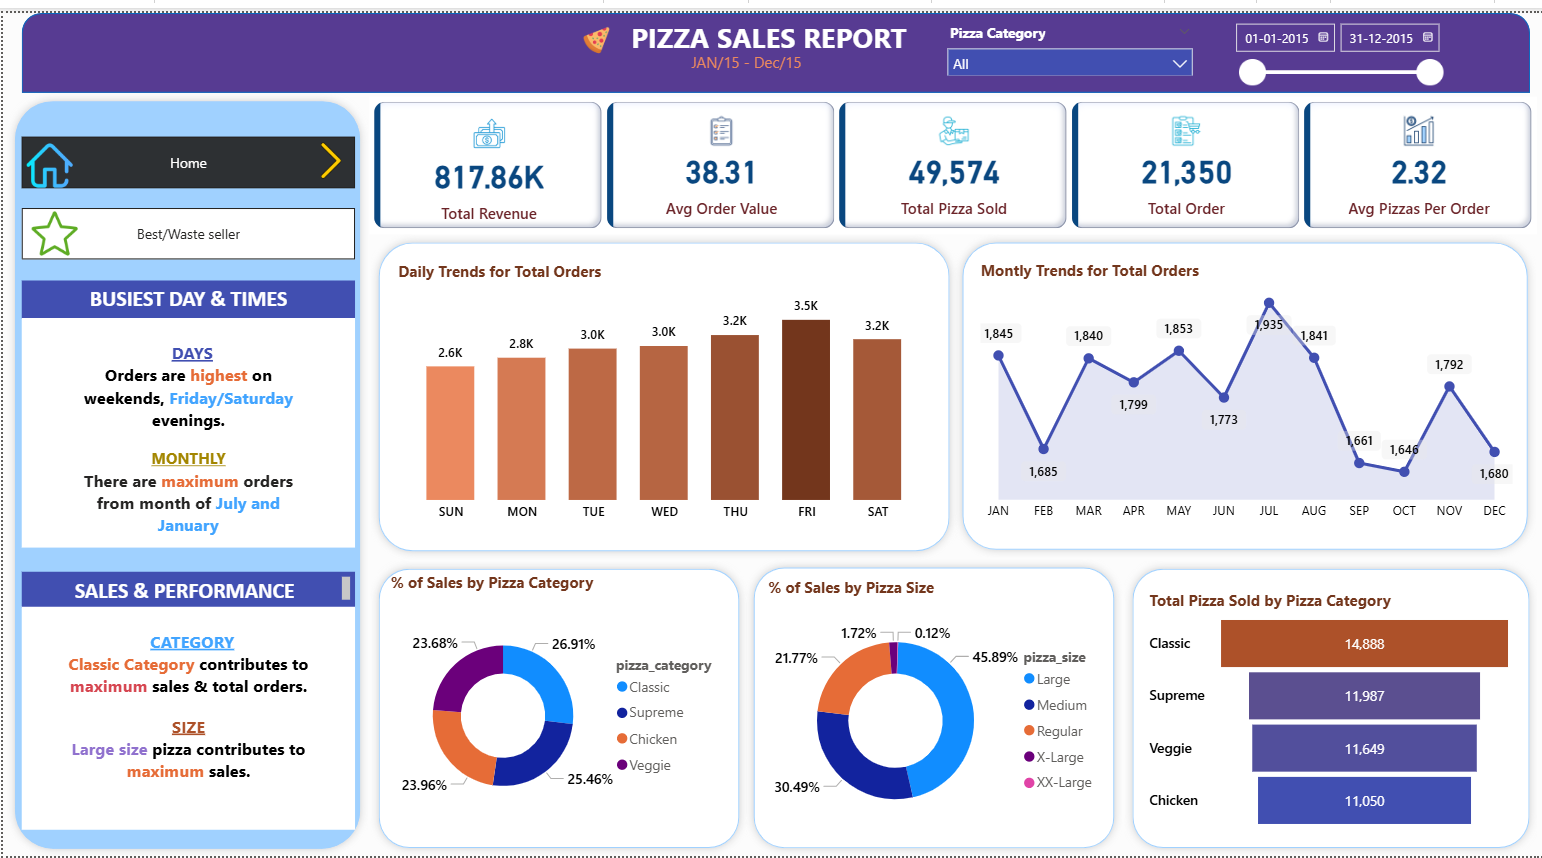

This screenshot's page, from the dashboard's own definition file:
{"tool":"powerbi","page":{"name":"Home","canvas":[1500,820],"ordinal":0},"visuals":[{"type":"cardVisual","fields":{"Data":["pizza_sales.Total Revenue","pizza_sales.Avg Order Value","pizza_sales.Total Pizza Sold","pizza_sales.Total Order","pizza_sales.Avg Pizzas Per Order"]},"box":[355.7,81.8,1135.1,133.5],"z":0},{"type":"shape","box":[17.7,0,1466.2,77.7],"z":1000},{"type":"textbox","box":[600,0,288.8,45],"z":2000},{"type":"textbox","box":[600,32.5,245,32.5],"z":3000},{"type":"image","box":[553.8,8.8,46.2,36.2],"z":4000},{"type":"shape","box":[357,215.3,571,316.1],"z":5000},{"type":"columnChart","title":"Daily Trends for Total Orders","fields":{"Category":["pizza_sales.Order Day"],"Y":["pizza_sales.Total Order"]},"box":[378.8,241.2,528.7,263],"z":6000},{"type":"shape","box":[925.2,215.3,565.5,314.8],"z":7000},{"type":"areaChart","title":"Montly Trends for Total Orders","fields":{"Category":["pizza_sales.Order Month"],"Y":["pizza_sales.Total Order"]},"box":[945.7,239.8,527.3,263],"z":8000},{"type":"shape","box":[722.2,531.4,366.6,288.9],"z":9000},{"type":"shape","box":[357,532.8,366.6,287.5],"z":10000},{"type":"shape","box":[1090.1,532.8,402,287.5],"z":11000},{"type":"donutChart","title":"% of Sales by Pizza Category","fields":{"Category":["pizza_sales.pizza_category"],"Y":["pizza_sales.Total Revenue"]},"box":[372,543.7,337.9,260.3],"z":12000},{"type":"donutChart","title":"% of Sales by Pizza Size","fields":{"Y":["pizza_sales.Total Revenue"],"Category":["pizza_sales.pizza_size"]},"box":[738.6,547.8,337.9,260.3],"z":13000},{"type":"shape","box":[4.1,77.7,351.6,742.6],"z":14000},{"type":"funnel","title":"Total Pizza Sold by Pizza Category","fields":{"Y":["pizza_sales.Total Pizza Sold"],"Category":["pizza_sales.pizza_category"]},"box":[1109.2,560,363.8,238.5],"z":15000},{"type":"textbox","box":[17.7,260.3,324.3,36.8],"z":16000},{"type":"textbox","box":[17.7,297.1,324.3,223.5],"z":17000},{"type":"textbox","box":[17.7,543.7,324.3,34.1],"z":18000},{"type":"textbox","box":[17.7,577.8,324.3,216.7],"z":19000},{"type":"slicer","fields":{"Values":["pizza_sales.pizza_category"]},"box":[907.5,5.5,258.9,55.9],"z":20000},{"type":"slicer","fields":{"Values":["pizza_sales.order_date"]},"box":[1185.5,0,222.1,81.8],"z":21000},{"type":"pageNavigator","box":[17.7,119.9,324.3,50.4],"z":22000},{"type":"pageNavigator","box":[17.7,189.4,324.3,50.4],"z":23000},{"type":"image","box":[297.1,119.9,45,46.3],"z":24000},{"type":"image","box":[17.7,119.9,54.5,55.9],"z":25000},{"type":"image","box":[17.7,186.7,64,54.5],"z":26000}]}

Visuals, with their boxes in screenshot pixels (x1, y1, x2, y2), scaled from the page's 1500x820 canvas onto the 1542x858 screenshot:
cardVisual - pizza_sales.Total Revenue x pizza_sales.Avg Order Value: l=366, t=86, r=1533, b=225
shape: l=18, t=0, r=1525, b=81
textbox: l=617, t=0, r=914, b=47
textbox: l=617, t=34, r=869, b=68
image: l=569, t=9, r=617, b=47
shape: l=367, t=225, r=954, b=556
"Daily Trends for Total Orders" columnChart: l=389, t=252, r=933, b=528
shape: l=951, t=225, r=1532, b=555
"Montly Trends for Total Orders" areaChart: l=972, t=251, r=1514, b=526
shape: l=742, t=556, r=1119, b=857
shape: l=367, t=557, r=744, b=857
shape: l=1121, t=557, r=1534, b=857
"% of Sales by Pizza Category" donutChart: l=382, t=569, r=730, b=841
"% of Sales by Pizza Size" donutChart: l=759, t=573, r=1107, b=846
shape: l=4, t=81, r=366, b=857
"Total Pizza Sold by Pizza Category" funnel: l=1140, t=586, r=1514, b=836
textbox: l=18, t=272, r=352, b=311
textbox: l=18, t=311, r=352, b=545
textbox: l=18, t=569, r=352, b=605
textbox: l=18, t=605, r=352, b=831
slicer - pizza_sales.pizza_category: l=933, t=6, r=1199, b=64
slicer - pizza_sales.order_date: l=1219, t=0, r=1447, b=86
pageNavigator: l=18, t=125, r=352, b=178
pageNavigator: l=18, t=198, r=352, b=251
image: l=305, t=125, r=352, b=174
image: l=18, t=125, r=74, b=184
image: l=18, t=195, r=84, b=252
